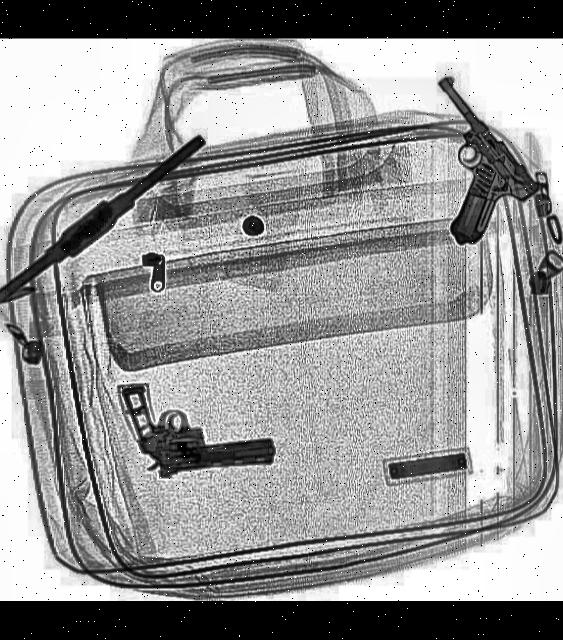Gun: (421, 75, 544, 254), (116, 371, 274, 484)
